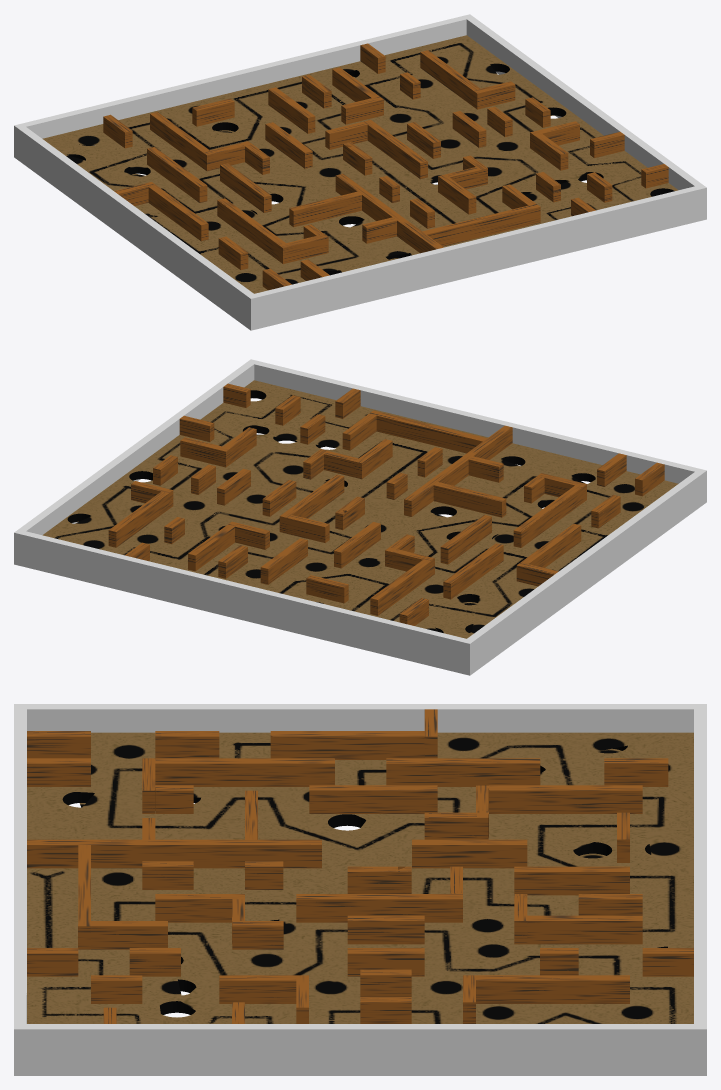
The picture shows the model from 3 angles, top to bottom: view 1: azimuth 30°, elevation 25°; view 2: azimuth 150°, elevation 25°; view 3: azimuth 270°, elevation 25°; orthographic projection. The views are drawn at different scales.
Visible parts, largest first — view 1: Plane, OuterWall3, OuterWall1, OuterWall2, OuterWall4, Wall6, Wall5, Wall49, Wall52, Wall22.004, Wall36, Wall22.007 (+34 smaller); view 2: Plane, OuterWall2, OuterWall1, OuterWall3, OuterWall4, Wall5, Wall6, Wall52, Wall49, Wall22.007, Wall39, Wall22.006 (+35 smaller); view 3: Plane, OuterWall4, OuterWall1, Wall5, Wall52, Wall39, Wall22.006, Wall36, Wall22.007, Wall22.004, OuterWall2, OuterWall3 (+35 smaller).
Boxes of the visible parts, left/top/right/bottom form: Plane: left=42, top=35, right=678, bottom=293; OuterWall3: left=254, top=186, right=699, bottom=328; OuterWall1: left=14, top=123, right=258, bottom=330; OuterWall2: left=22, top=16, right=466, bottom=138; OuterWall4: left=463, top=14, right=706, bottom=221; Wall6: left=422, top=203, right=540, bottom=246; Wall5: left=335, top=173, right=443, bottom=253; Wall49: left=289, top=191, right=361, bottom=227; Wall52: left=217, top=198, right=285, bottom=260; Wall22.004: left=364, top=120, right=427, bottom=179; Wall36: left=148, top=185, right=208, bottom=241; Wall22.007: left=147, top=147, right=207, bottom=202; Plane: left=42, top=380, right=678, bottom=638; OuterWall2: left=21, top=531, right=466, bottom=673; OuterWall1: left=462, top=468, right=706, bottom=675; OuterWall3: left=254, top=361, right=698, bottom=483; OuterWall4: left=14, top=359, right=257, bottom=566; Wall5: left=404, top=425, right=512, bottom=516; Wall6: left=369, top=410, right=486, bottom=453; Wall52: left=513, top=485, right=582, bottom=547; Wall49: left=433, top=482, right=506, bottom=517; Wall22.007: left=443, top=543, right=503, bottom=599; Wall39: left=108, top=491, right=168, bottom=547; Wall22.006: left=370, top=559, right=430, bottom=615; Plane: left=27, top=732, right=693, bottom=1023; OuterWall4: left=14, top=1024, right=706, bottom=1075; OuterWall1: left=14, top=704, right=706, bottom=732; Wall5: left=27, top=839, right=321, bottom=868; Wall52: left=155, top=758, right=334, bottom=786; Wall39: left=476, top=975, right=629, bottom=1003; Wall22.006: left=489, top=785, right=642, bottom=813; Wall36: left=270, top=731, right=424, bottom=759; Wall22.007: left=386, top=758, right=540, bottom=786; Wall22.004: left=296, top=894, right=462, bottom=922; OuterWall2: left=694, top=709, right=706, bottom=1023; OuterWall3: left=14, top=709, right=26, bottom=1023.
Bounding box in the file's own units: 6 × 0.4 × 5.4.
